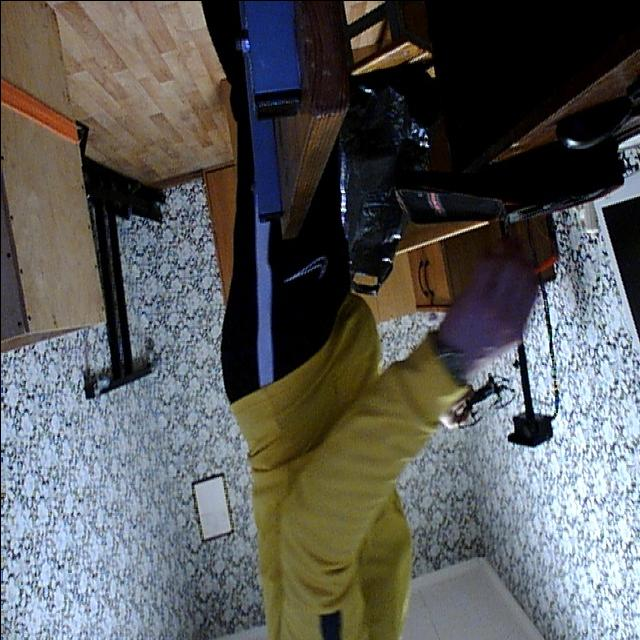drone: (434, 364, 520, 432)
